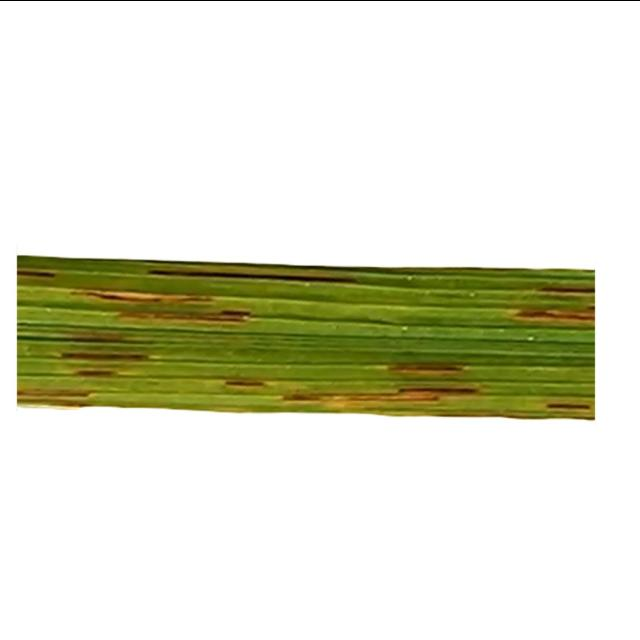Narrow brown: (1, 236, 632, 470)
